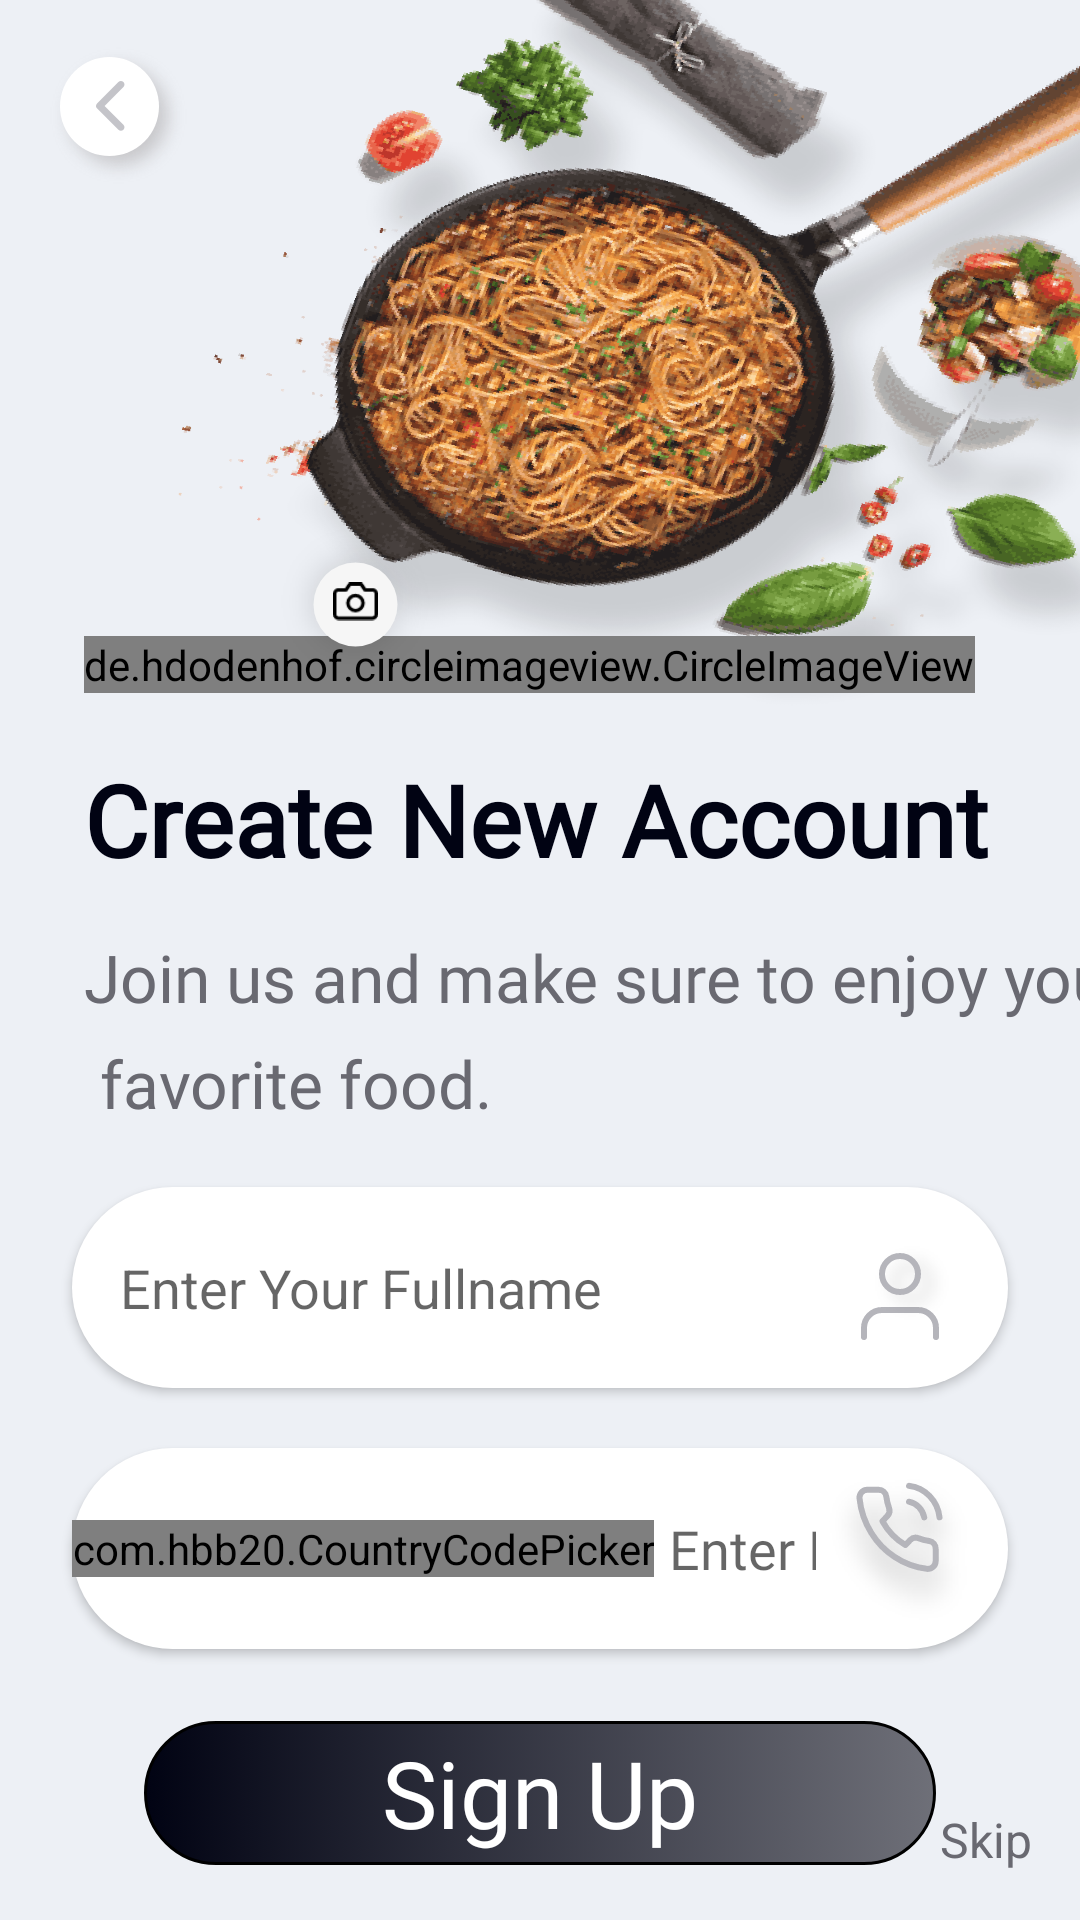

Named icons in this screenshot (1080*1920) and their bounding boxes, (x1, y1, x2, y2):
feather camera: (333, 582, 378, 621)
